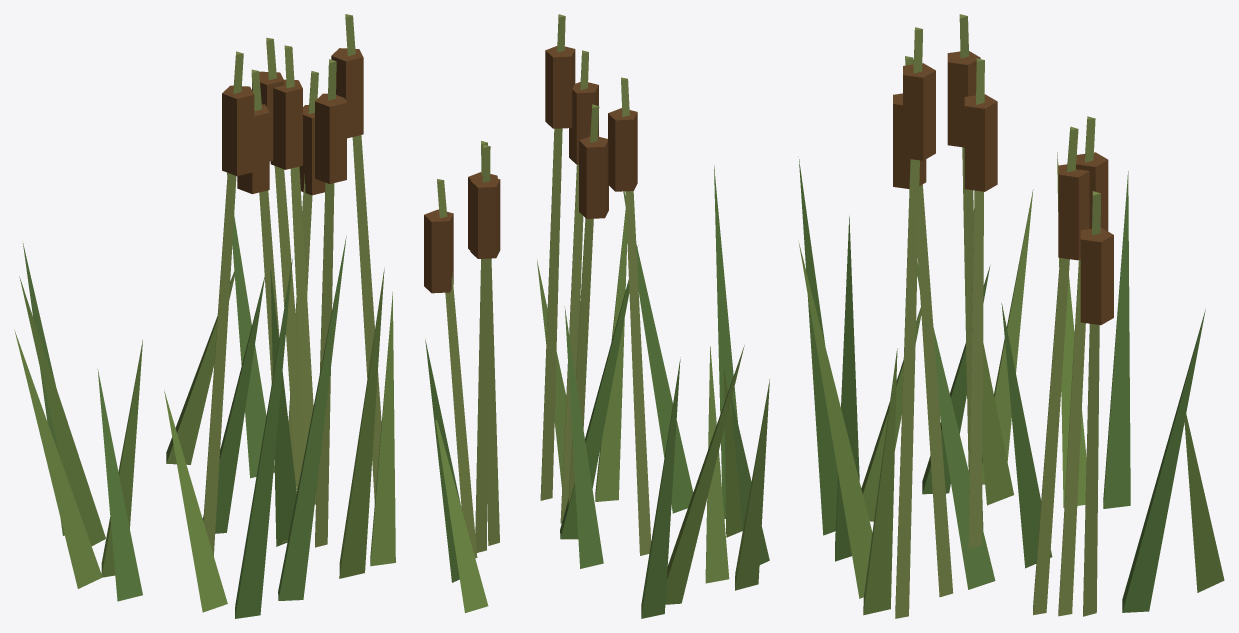
File: cover_cattail.glb
3 renders of one model, left to right at view 1: azimuth 30°, elevation 25°; view 2: azimuth 150°, elevation 25°; view 3: azimuth 270°, elevation 25°, orthographic. The views are drawn at different scales.
Visible parts, largest first — view 1: cover_cattail; view 2: cover_cattail; view 3: cover_cattail.
Boxes of the visible parts, bbox=[...] form: cover_cattail: bbox=[14, 14, 395, 618]; cover_cattail: bbox=[424, 14, 769, 618]; cover_cattail: bbox=[799, 14, 1224, 618].
Bounding box in the file's own units: 0.9288 × 1.39 × 0.9305.
